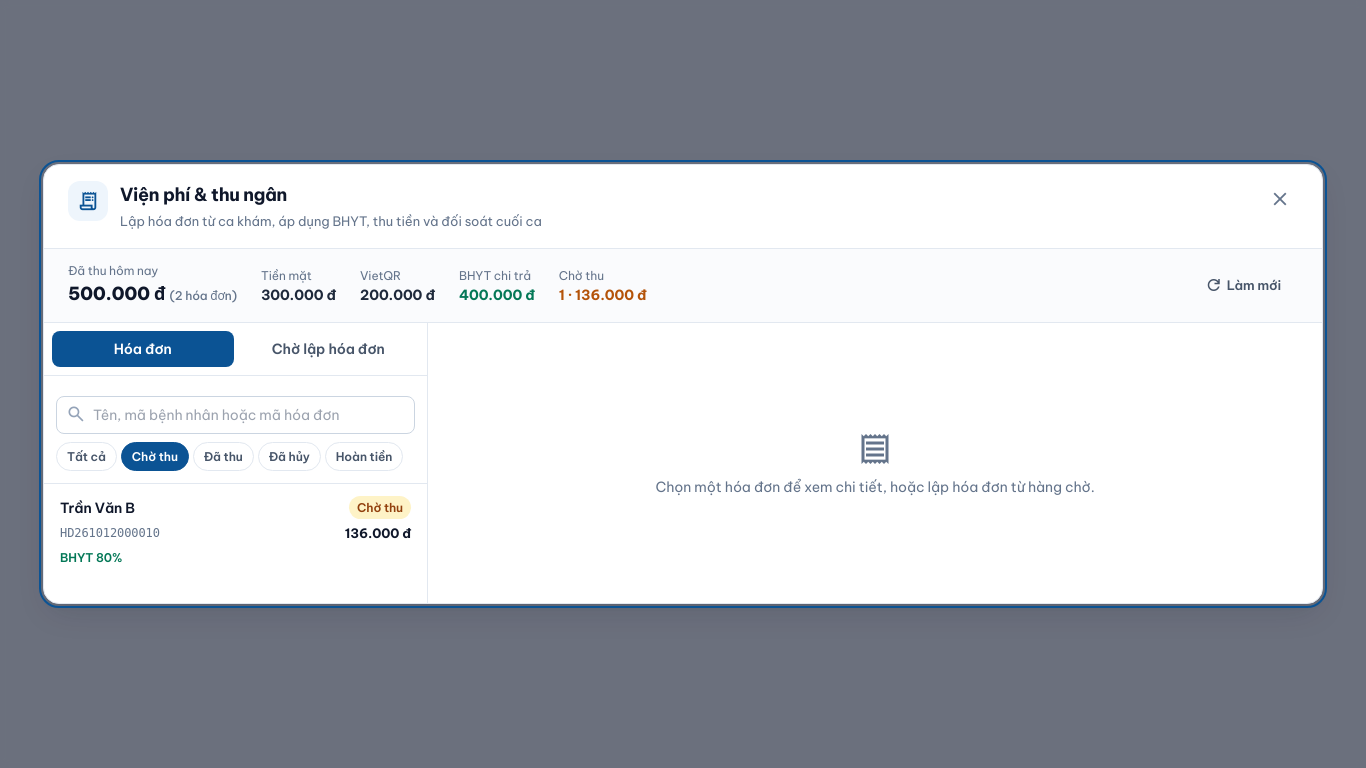
Viện phí – giao diện thu ngân › hiển thị tổng hợp ca, BHYT chi trả và số người bệnh phải trả
Click the button "Trần Văn B Chờ thu HD261012000010 136.000 đ BHYT 80%": (98, 508) [44,484,427,581]
(page scrolled)
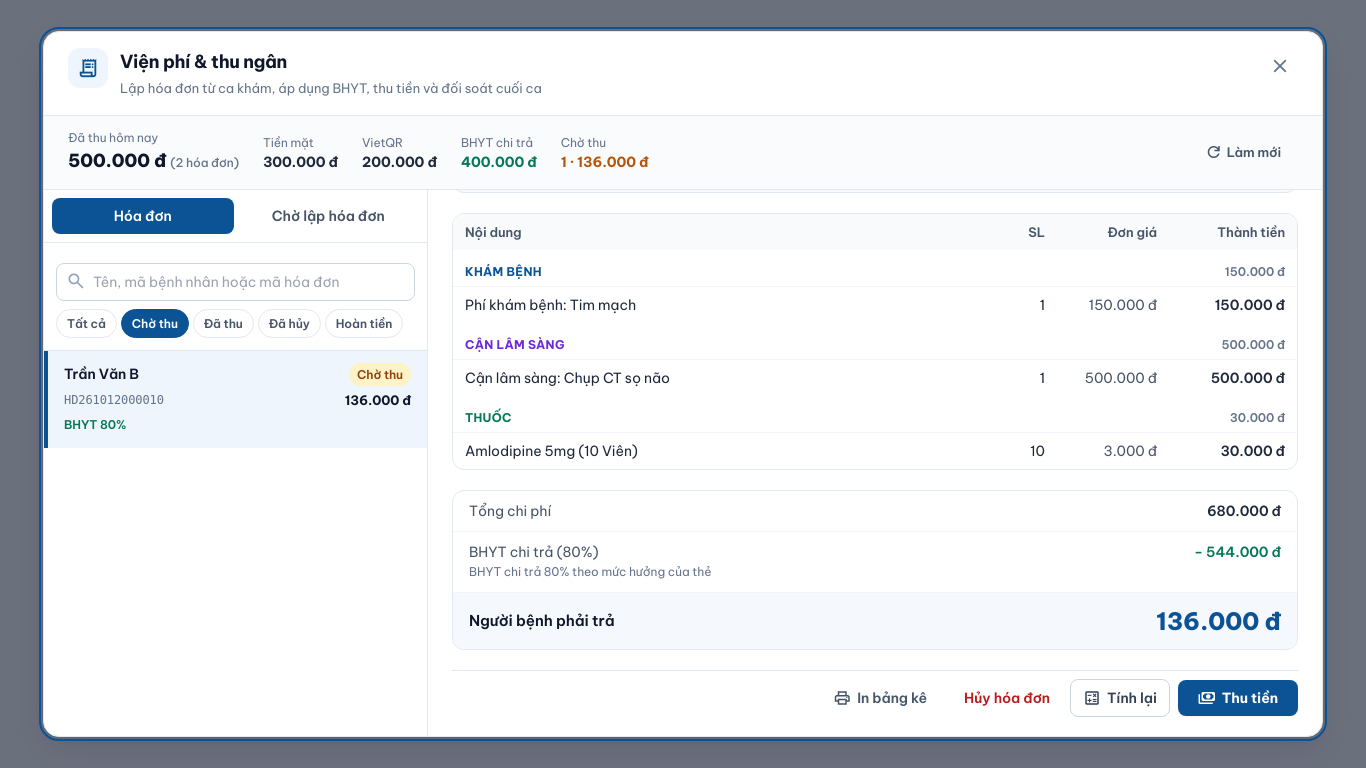
Check: the text "Người bệnh phải trả" is shown, box [469,609,614,633]
Check: the text "− 544.000 đ" is shown, box [1194,543,1281,561]
Check: the text "BHYT chi trả 80% theo mức hưởng của thẻ" is shown, box [469,562,711,582]
